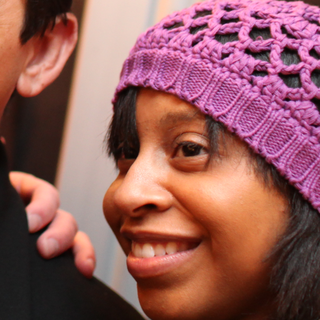eye: (171, 139, 215, 165)
